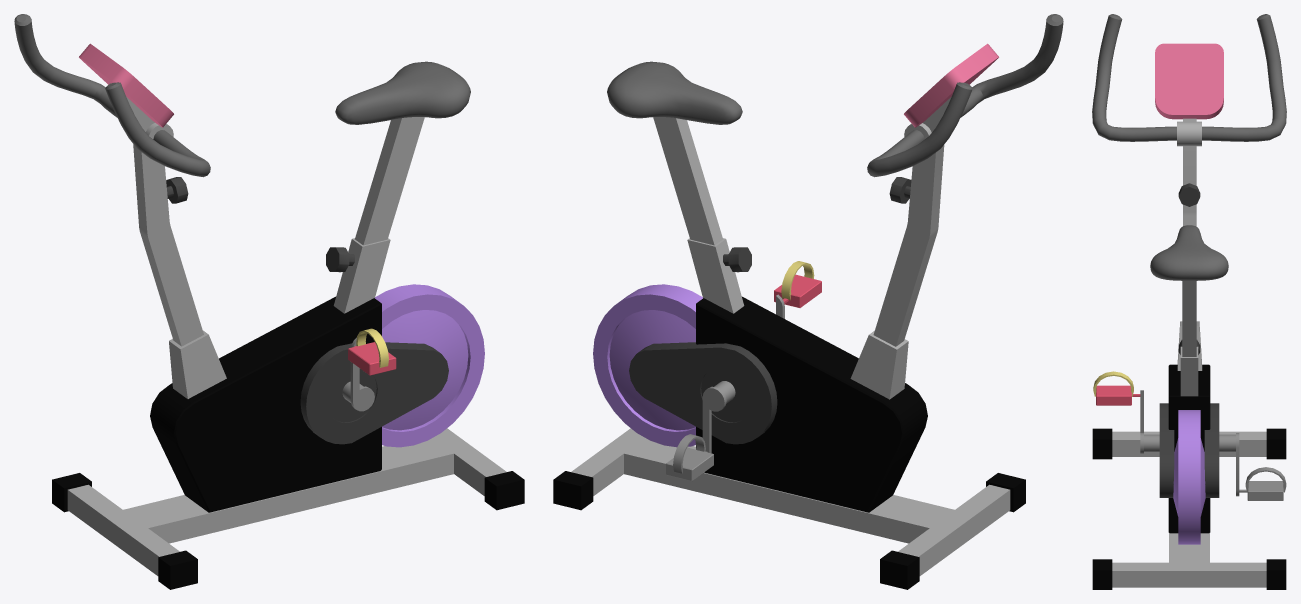
The model's file is Stationary Bike.fbx.
3 renders of one model, left to right at view 1: azimuth 30°, elevation 25°; view 2: azimuth 150°, elevation 25°; view 3: azimuth 270°, elevation 25°, orthographic. The views are drawn at different scales.
Visible parts, largest first — view 1: Cube.004, Cube.002, BezierCurve, Circle.001, Circle, Circle.002, Plane.001, Cylinder.001; view 2: Cube.002, Cube.004, BezierCurve, Circle, Circle.001, Circle.002, Plane.001, Cylinder.001; view 3: Cube.004, BezierCurve, Cube.002, Plane.001, Circle.001, Circle.002, Circle, Cylinder.001.
Boxes of the visible parts, x1,y1,x2,y2 form: Cube.004: (67,83,506,575); Cube.002: (52,296,524,589); BezierCurve: (14,14,470,177); Circle.001: (375,284,484,447); Circle: (300,342,448,444); Circle.002: (342,328,396,411); Plane.001: (79,43,173,127); Cylinder.001: (166,177,354,272); Cube.002: (553,296,1025,589); Cube.004: (571,83,1010,575); BezierCurve: (607,14,1063,177); Circle: (629,342,777,444); Circle.001: (593,284,702,447); Circle.002: (666,261,821,480); Plane.001: (904,43,998,127); Cylinder.001: (723,177,911,272); Cube.004: (1112,118,1266,587); BezierCurve: (1092,14,1286,280); Cube.002: (1092,364,1286,589); Plane.001: (1155,43,1223,119); Circle.001: (1173,410,1205,544); Circle.002: (1093,371,1286,500); Circle: (1159,403,1219,497); Cylinder.001: (1178,183,1200,354).
Bounding box in the file's own units: 391 × 455 × 193.
